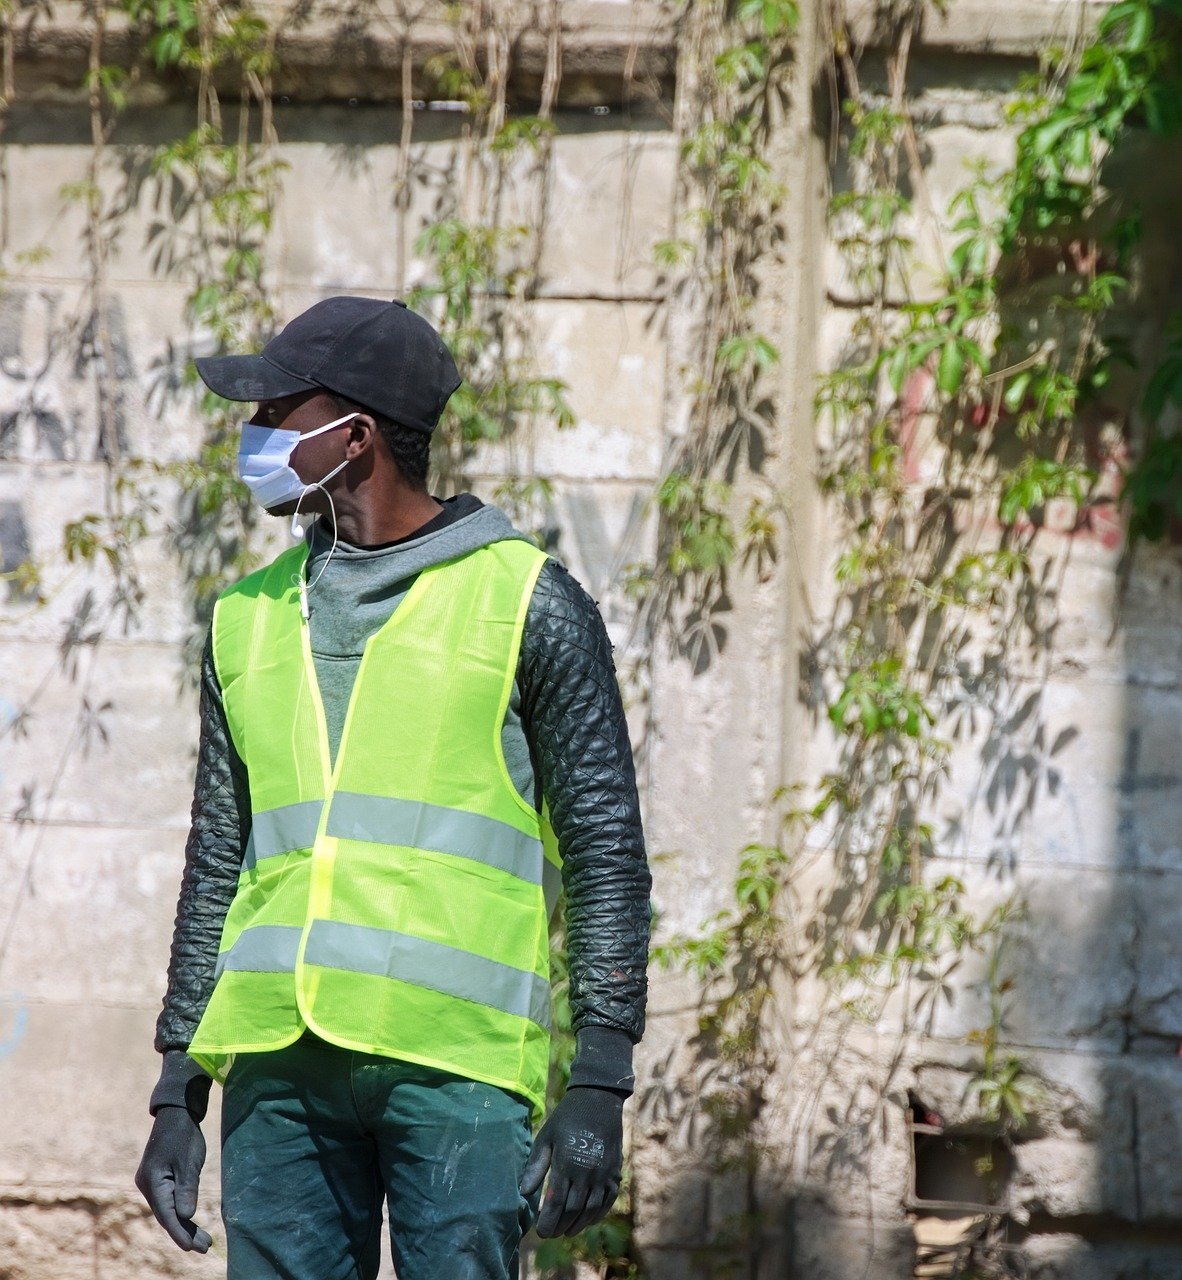Person: (139, 293, 649, 1266)
Vest: (199, 401, 618, 1110)
